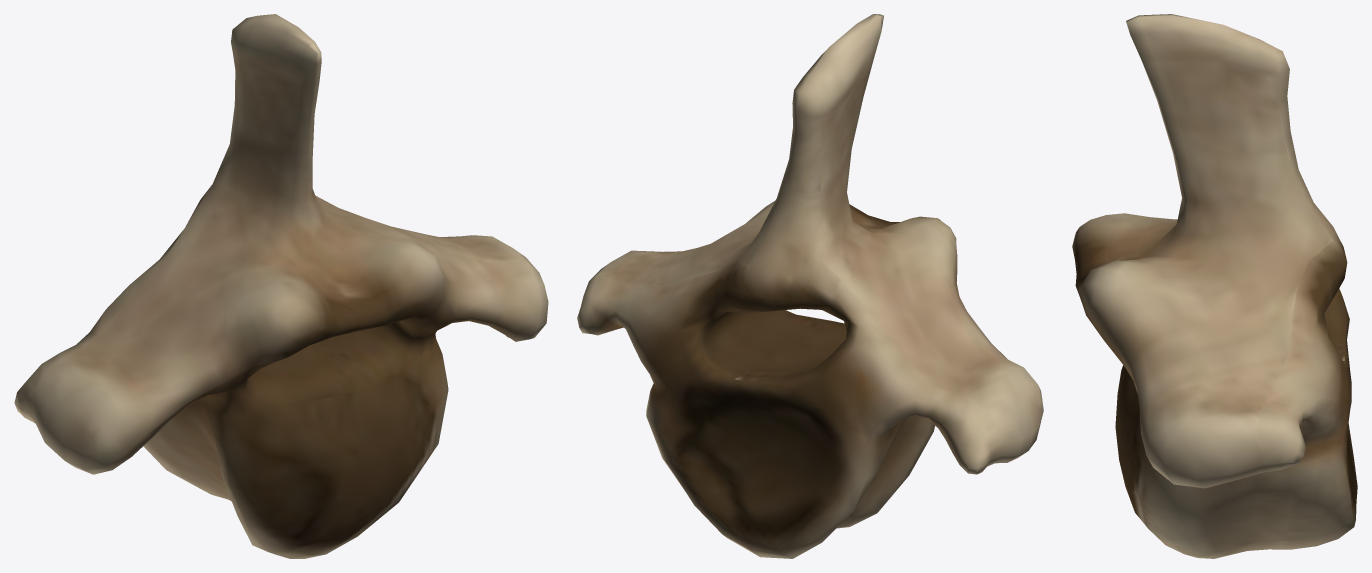
File: Thoracic_Vertebrae16.glb
The picture shows the model from 3 angles, left to right: view 1: azimuth 30°, elevation 25°; view 2: azimuth 150°, elevation 25°; view 3: azimuth 270°, elevation 25°; orthographic projection. The views are drawn at different scales.
Visible parts, largest first — view 1: Horse_low:SelSet_53Merged_L_Frt_Sesamoid_Bones_1; view 2: Horse_low:SelSet_53Merged_L_Frt_Sesamoid_Bones_1; view 3: Horse_low:SelSet_53Merged_L_Frt_Sesamoid_Bones_1.
Part boxes in pixels (left/top/right/bottom): Horse_low:SelSet_53Merged_L_Frt_Sesamoid_Bones_1: left=14, top=14, right=548, bottom=558; Horse_low:SelSet_53Merged_L_Frt_Sesamoid_Bones_1: left=577, top=14, right=1043, bottom=558; Horse_low:SelSet_53Merged_L_Frt_Sesamoid_Bones_1: left=1072, top=14, right=1357, bottom=558.
Size of the model in its own units: 0.1186 by 0.1294 by 0.0636.
1 material, 1 textured.
